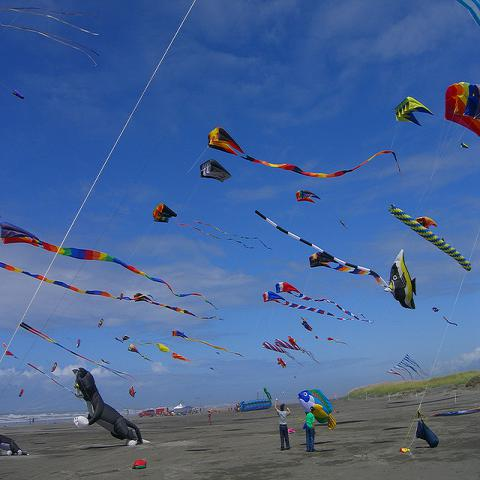car: (139, 410, 154, 418)
